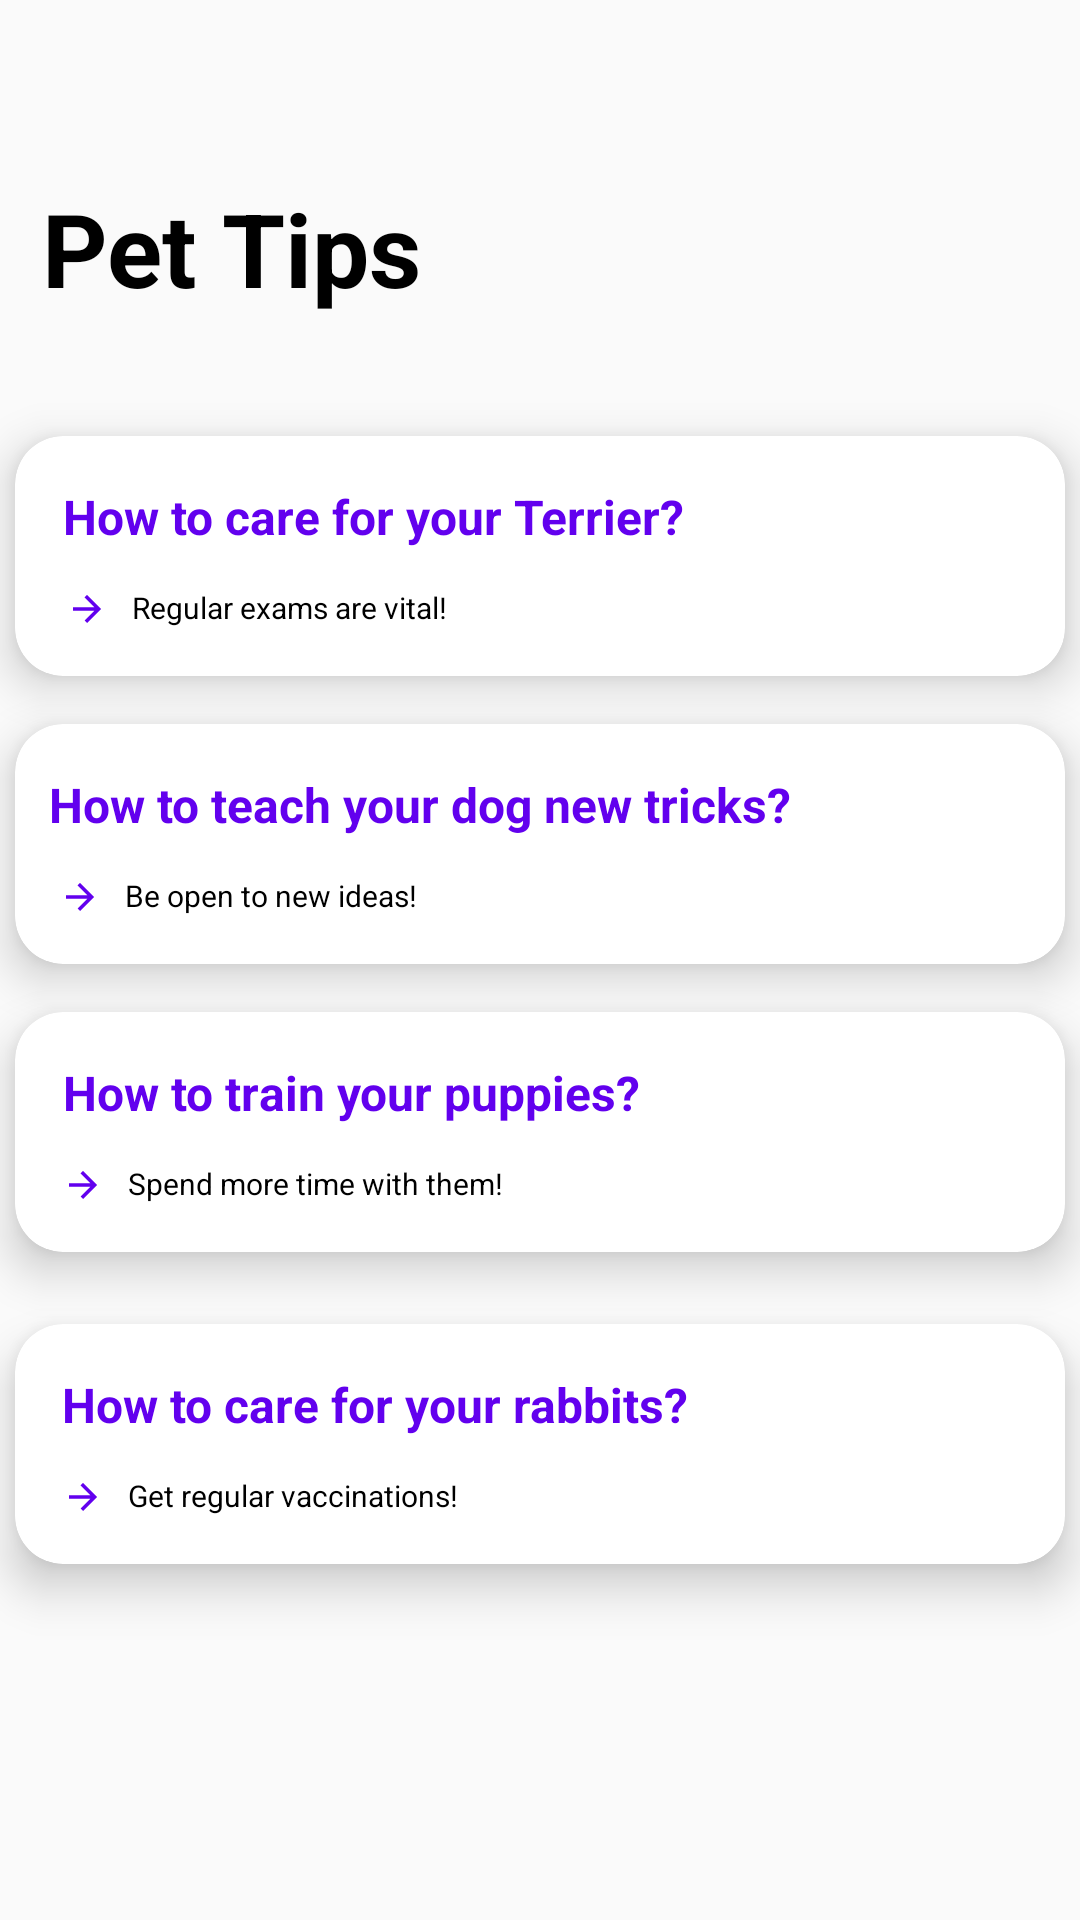

Where icons sit on this 1080w x 1920h app screen, as (x1, y1, x2, y2):
arrow forward: (73, 595, 101, 623), (66, 883, 94, 911), (69, 1171, 97, 1199), (69, 1483, 97, 1511)
